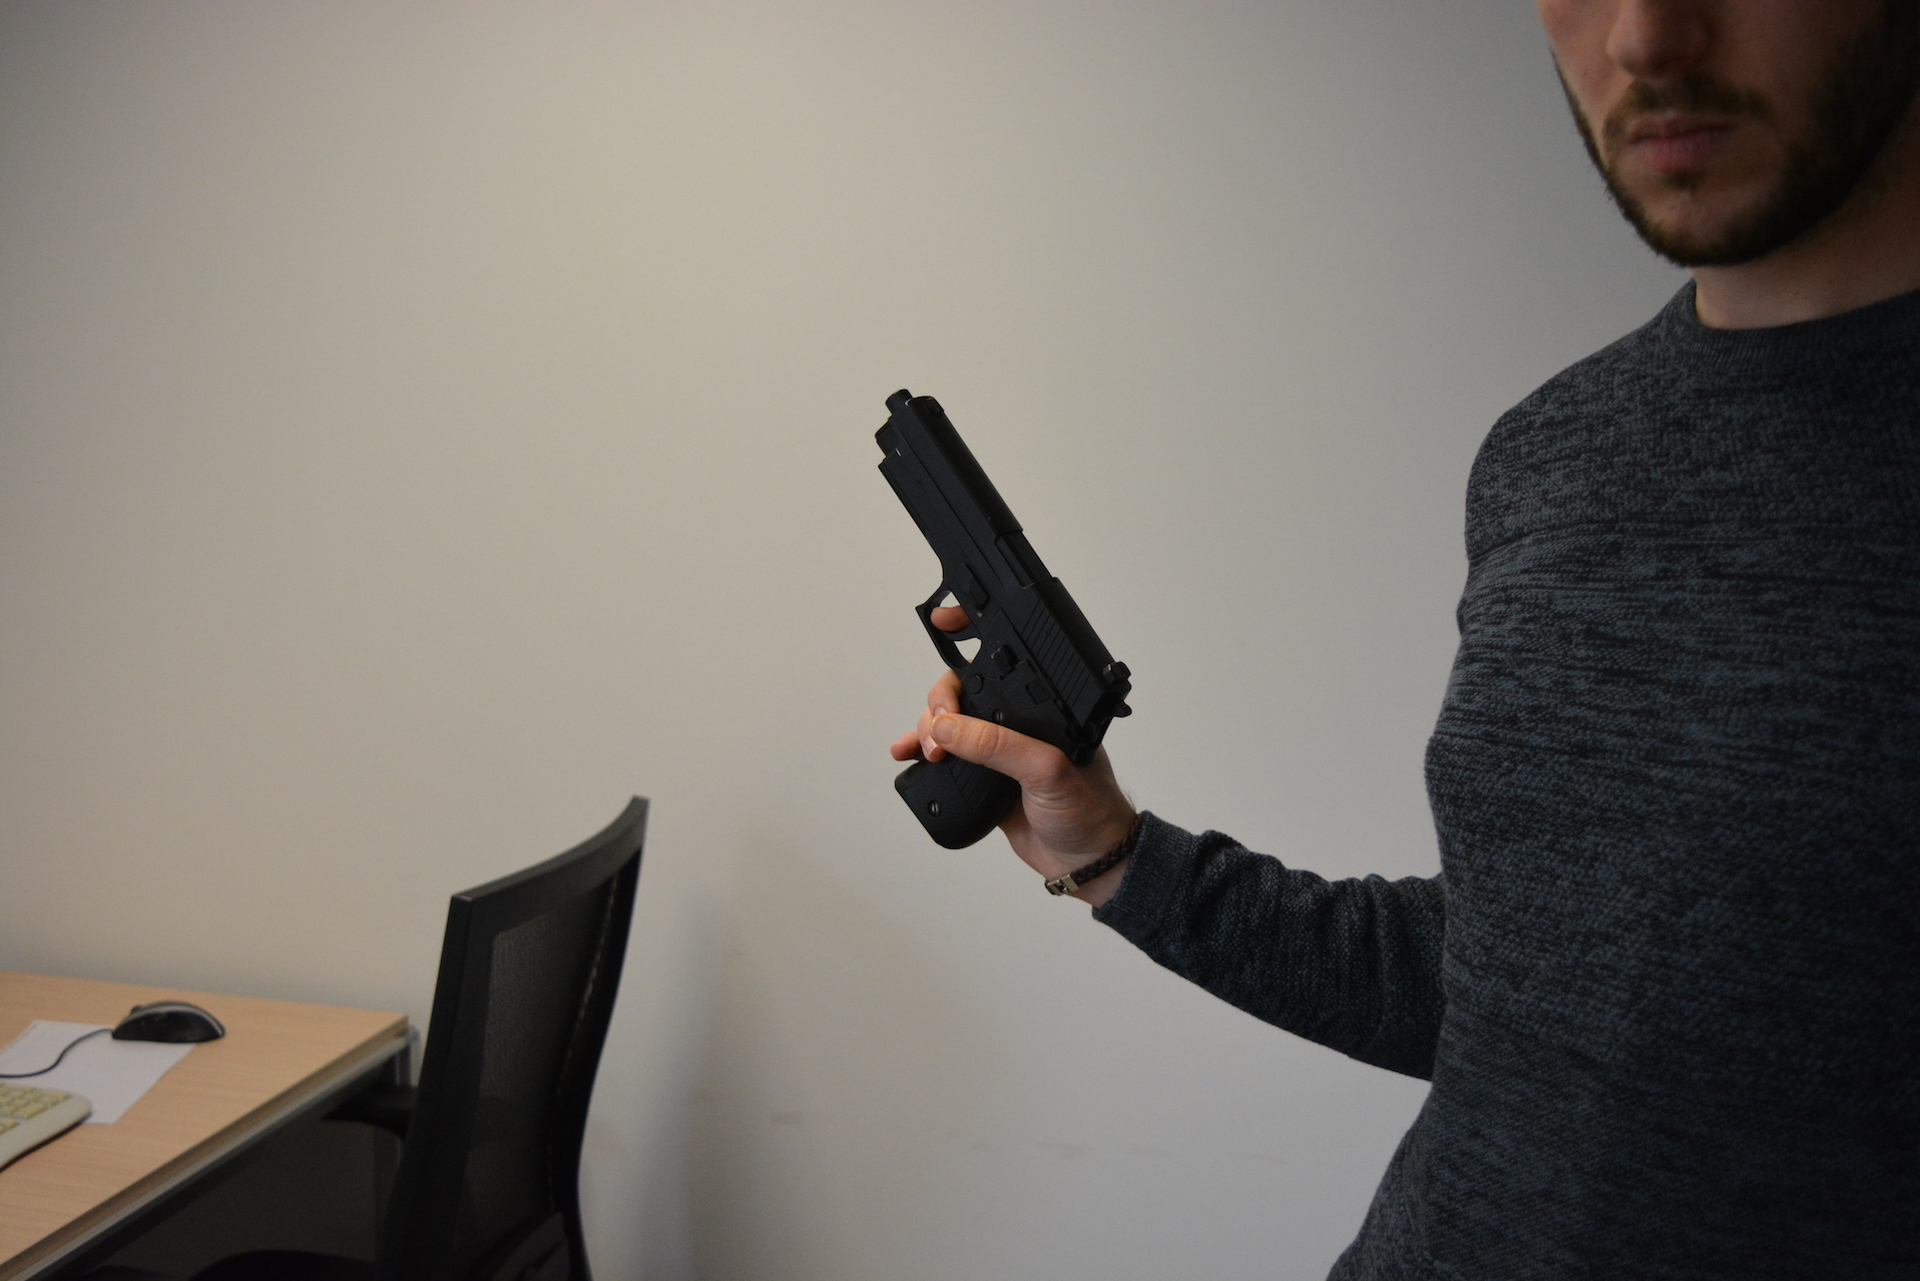pistol: (872, 387, 1137, 854)
